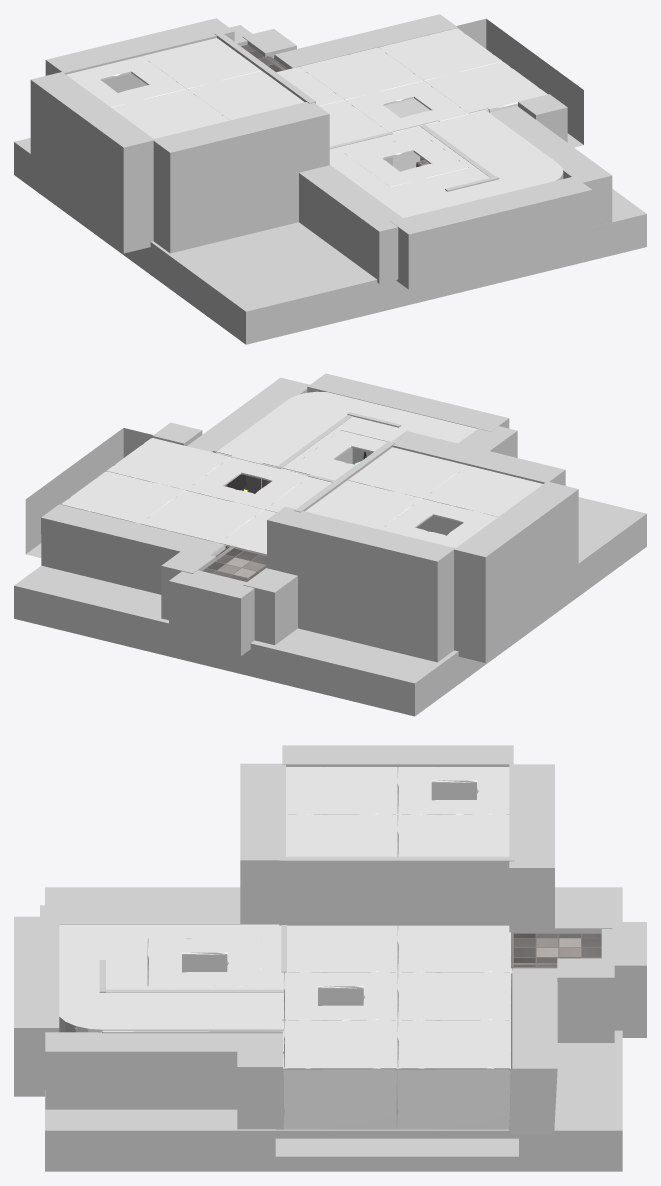
File: level1.glb
3 renders of one model, top to bottom at view 1: azimuth 30°, elevation 25°; view 2: azimuth 150°, elevation 25°; view 3: azimuth 270°, elevation 25°, orthographic. The views are drawn at different scales.
Visible parts, largest first — view 1: Ground, Cube.005, Cube.006, Cube.003, Cube.004, Cube.007, Cube.001, Cube.002, SM_Buildings_Floor_5x5_01P__6_, SM_Buildings_Floor_5x5_01P__4_, SM_Buildings_Floor_5x5_01P__5_, SM_Buildings_Floor_5x5_01P__10_ (+24 smaller); view 2: Ground, Cube.007, Cube.006, Cube, Cube.008, Cube.001, Cube.005, SM_Buildings_Floor_5x5_01P__5_, SM_Buildings_Floor_5x5_01P__4_, SM_Buildings_Floor_5x5_01P__6_, Cube.003, SM_Buildings_Floor_5x5_01P__11_ (+25 smaller); view 3: Ground, Cube.013, Cube.002, Cube.007, Cube, Cube.003, Cube.005, SM_Buildings_Wall_5x3_01P__4_, SM_Buildings_Wall_5x3_01P__5_, Cube.006, Cube.001, SM_Buildings_Floor_5x5_01P__6_ (+33 smaller).
Part boxes in pixels (x1,y1,x2,y2): Ground: (14,98,646,344); Cube.005: (153,102,329,253); Cube.006: (30,72,154,253); Cube.003: (390,176,592,289); Cube.004: (299,165,402,283); Cube.007: (45,18,234,92); Cube.001: (456,18,583,147); Cube.002: (489,105,612,226); SM_Buildings_Floor_5x5_01P__6_: (424,61,547,114); SM_Buildings_Floor_5x5_01P__4_: (300,47,423,100); SM_Buildings_Floor_5x5_01P__5_: (379,28,502,80); SM_Buildings_Floor_5x5_01P__10_: (142,38,261,89); Ground: (14,497,646,716); Cube.007: (267,506,455,662); Cube.006: (454,481,578,662); Cube: (41,504,225,594); Cube.008: (169,570,254,656); Cube.001: (25,428,152,557); Cube.005: (392,431,565,535); SM_Buildings_Floor_5x5_01P__5_: (61,471,185,523); SM_Buildings_Floor_5x5_01P__4_: (140,490,264,542); SM_Buildings_Floor_5x5_01P__6_: (107,438,230,490); Cube.003: (307,373,509,431); SM_Buildings_Floor_5x5_01P__11_: (423,465,542,516); Ground: (45,887,622,1171); Cube.013: (279,856,514,925); Cube.002: (45,1032,282,1109); Cube.007: (509,764,554,932); Cube: (509,968,557,1133); Cube.003: (14,916,59,1096); Cube.005: (240,763,285,923); SM_Buildings_Wall_5x3_01P__4_: (397,1069,510,1129); SM_Buildings_Wall_5x3_01P__5_: (283,1068,396,1129); Cube.006: (282,745,513,800); Cube.001: (275,1069,518,1156); SM_Buildings_Floor_5x5_01P__6_: (284,1020,397,1068).
Size of the model in its own units: 28.97 by 8.13 by 27.87.
6 materials, 2 textured.
